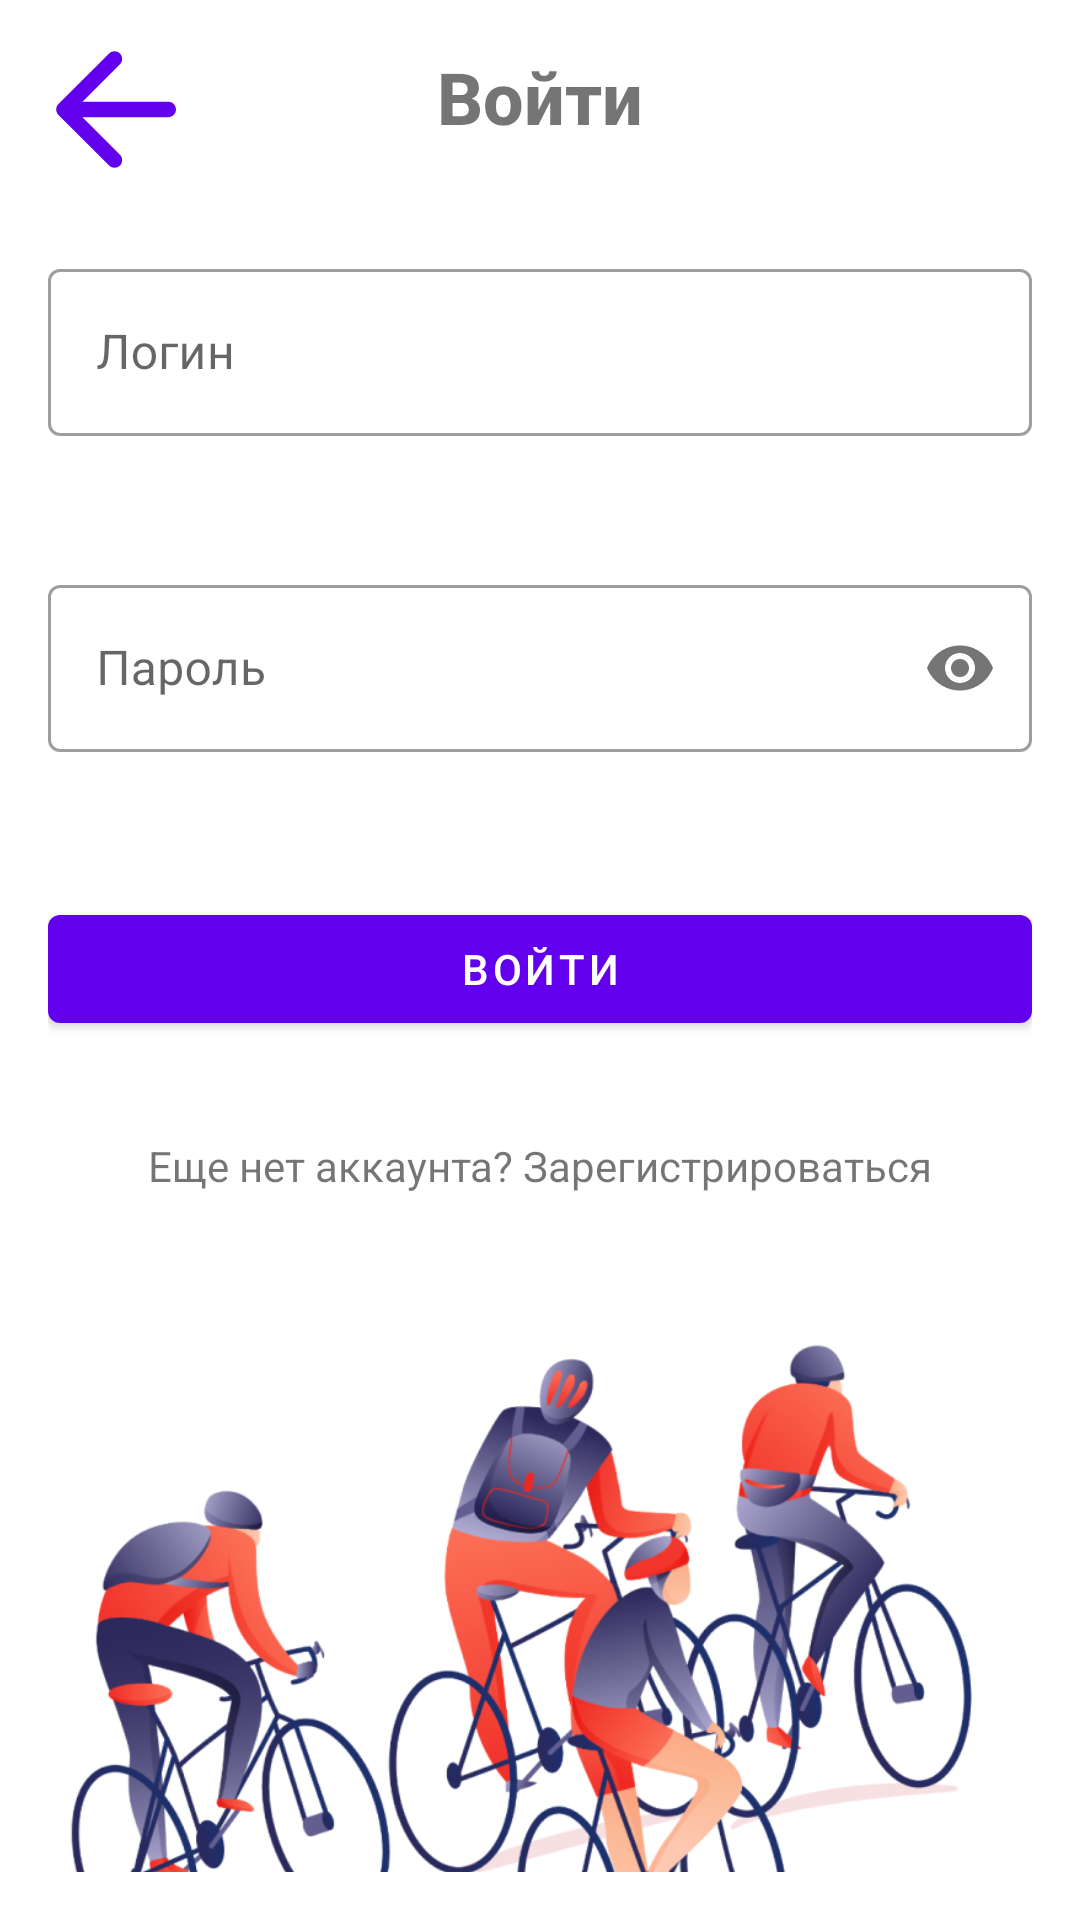

Named icons in this screenshot (1080px×1920px) and their bounding boxes, BBox(x1, y1, x2, y2):
back: BBox(56, 51, 176, 168)
